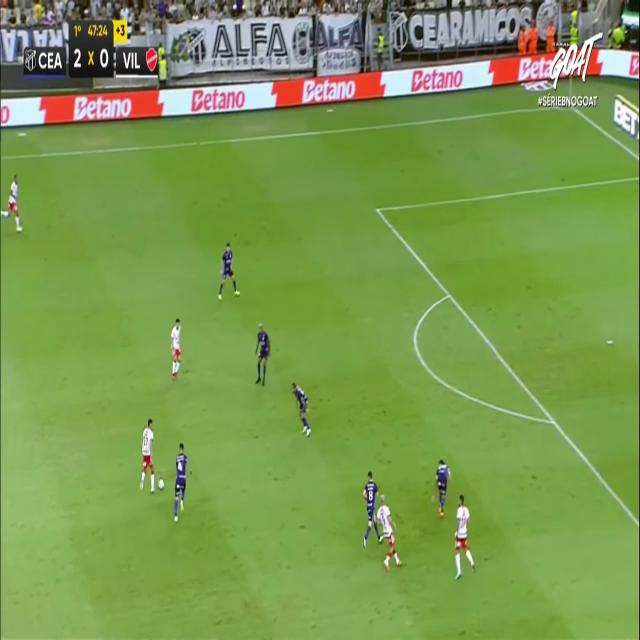player: (376, 493, 402, 571), (453, 493, 475, 579), (362, 470, 384, 548), (173, 442, 191, 523), (218, 242, 240, 300), (0, 173, 22, 231), (139, 418, 155, 493), (291, 381, 311, 437), (254, 322, 270, 386), (434, 458, 451, 517), (170, 317, 182, 377), (159, 479, 165, 495)
